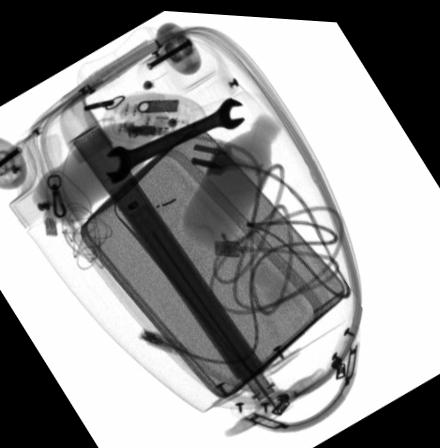Wrench: (105, 93, 245, 179)
